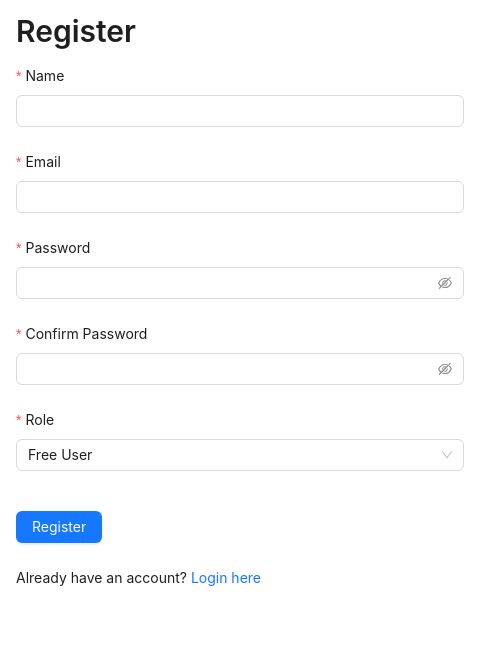
Test: Registration Component › shows validation errors for empty fields
// Click the register button without filling in the form
Click the button "Register" at (59, 527), box [16,511,102,543]
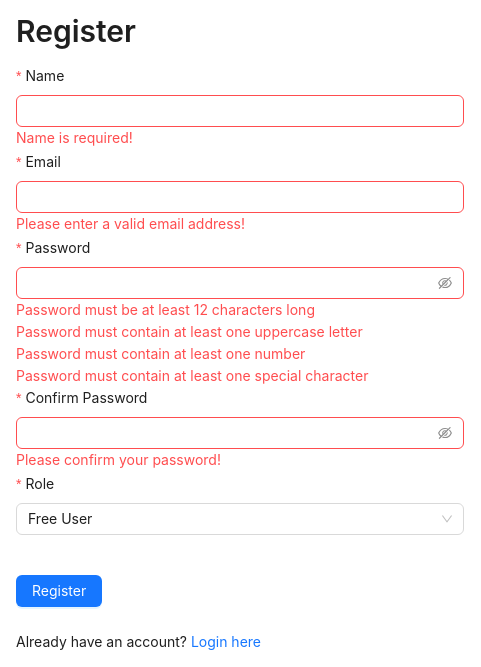
expect the text "Name is required!" is shown: met, box [16,129,133,146]
expect the text "Please enter a valid email address!" is shown: met, box [16,215,245,232]
expect the text "Password must be at least 12 characters long" is shown: met, box [16,301,315,318]
